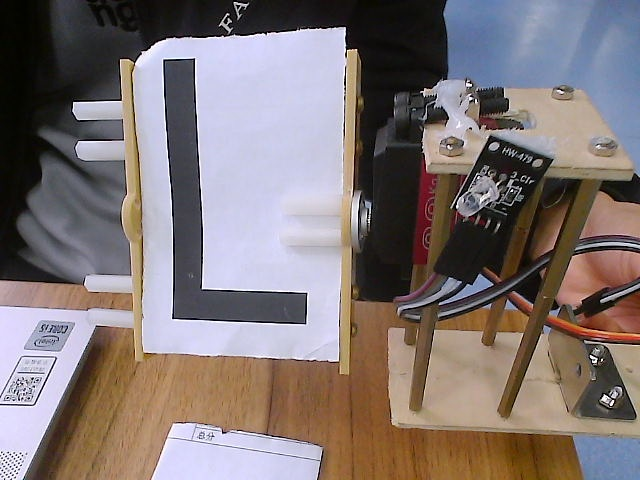L: (44, 23, 389, 384)
